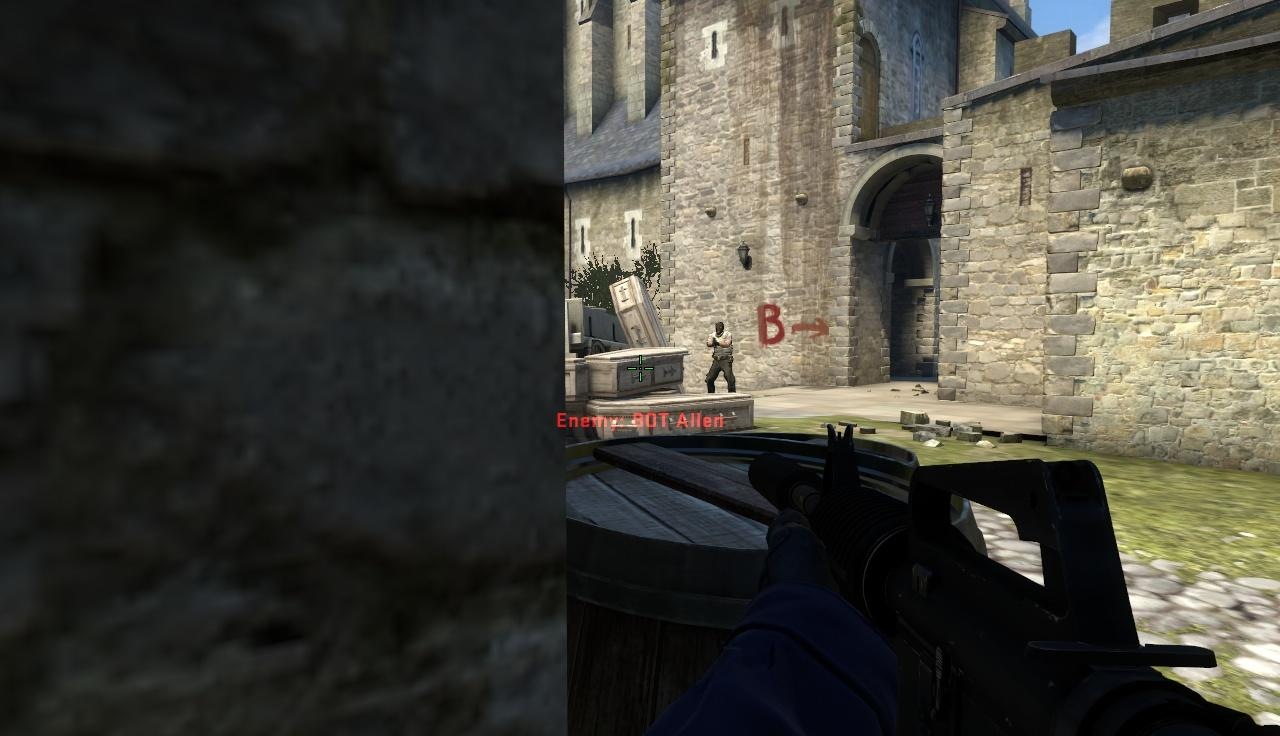rifle: (735, 420, 1273, 731)
tt: (708, 322, 734, 395)
tthead: (714, 321, 725, 335)
